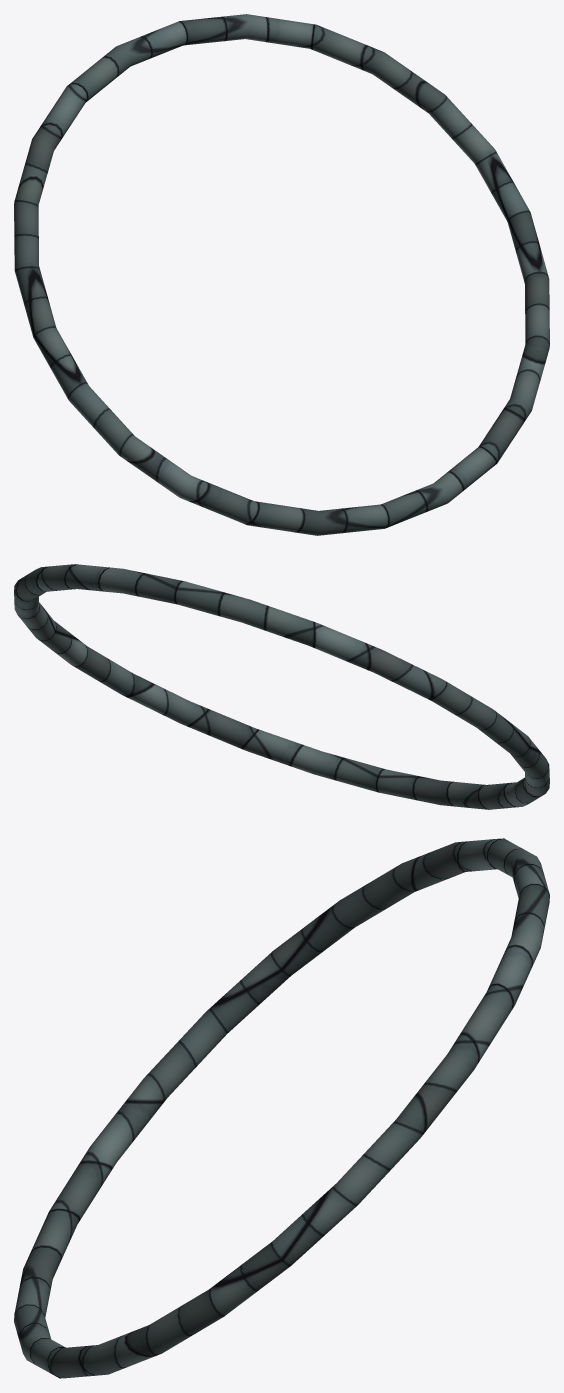
File: aro1.obj
3 renders of one model, top to bottom at view 1: azimuth 30°, elevation 25°; view 2: azimuth 150°, elevation 25°; view 3: azimuth 270°, elevation 25°, orthographic. The views are drawn at different scales.
Visible parts, largest first — view 1: Torus005; view 2: Torus005; view 3: Torus005.
Part boxes in pixels (x1,y1,x2,y2): Torus005: [14, 14, 549, 535]; Torus005: [14, 564, 549, 809]; Torus005: [14, 838, 549, 1378].
Bounding box in the file's own units: 72.58 × 50.06 × 54.2.
Materials: 1 (1 with a texture image).
